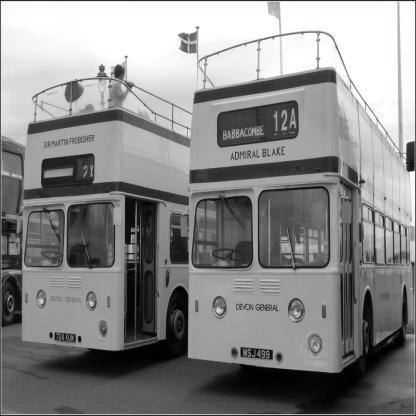bus: (178, 45, 397, 393), (23, 67, 186, 361)
